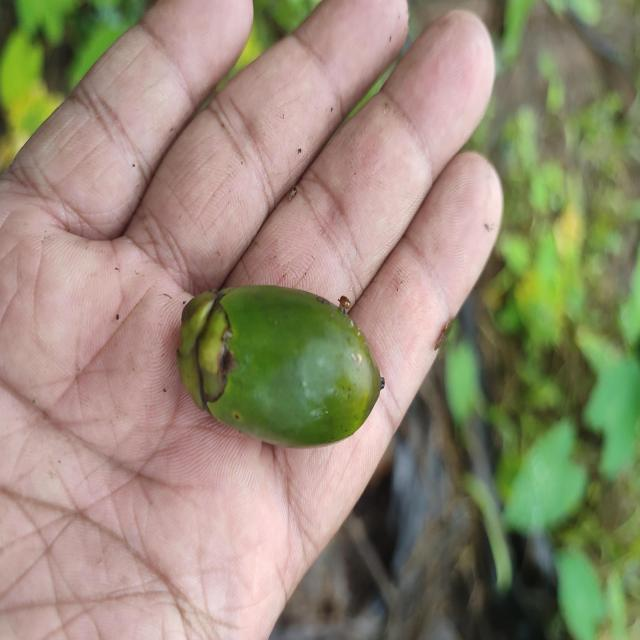damaged: (176, 286, 384, 451)
